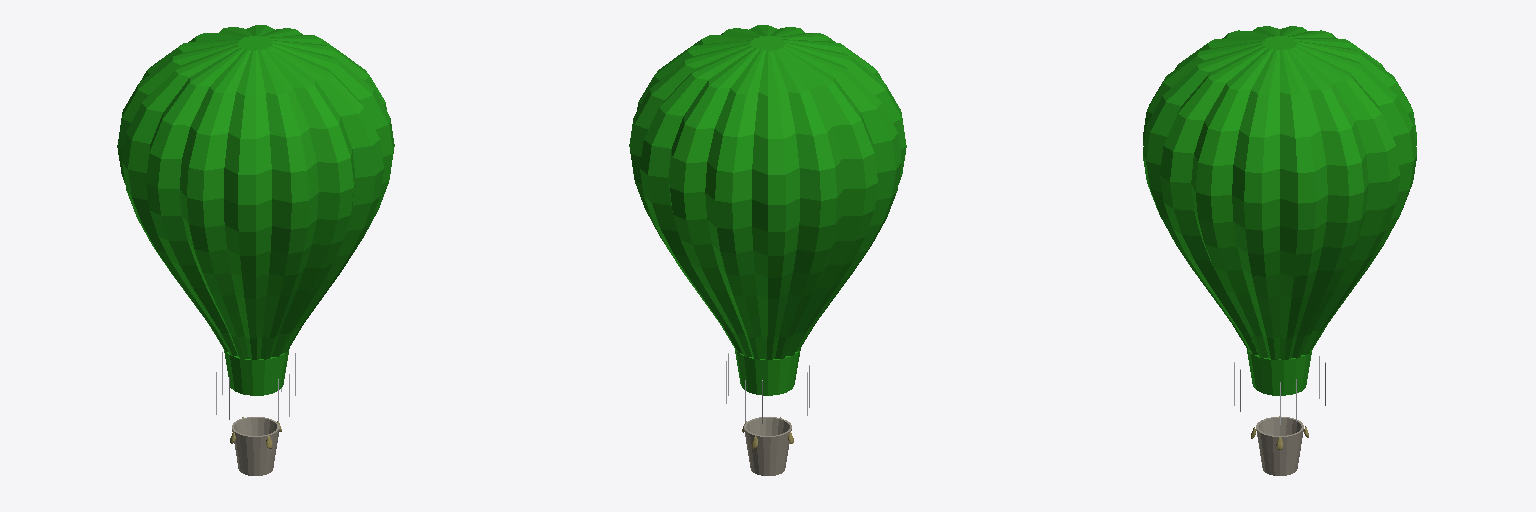
Rendered from baloon.obj.
The picture shows the model from 3 angles: view 1: azimuth 30°, elevation 25°; view 2: azimuth 150°, elevation 25°; view 3: azimuth 270°, elevation 25°; orthographic projection.
Parts seen in each view (by area): view 1: balloon, basket; view 2: balloon, basket; view 3: balloon, basket.
Part boxes in pixels (left/top/right/bottom): balloon: left=117, top=25, right=394, bottom=395; basket: left=232, top=417, right=279, bottom=475; balloon: left=629, top=25, right=906, bottom=395; basket: left=744, top=417, right=791, bottom=475; balloon: left=1143, top=26, right=1416, bottom=395; basket: left=1256, top=417, right=1303, bottom=475.
Size of the model in its own units: 2.66 by 4.55 by 2.66.